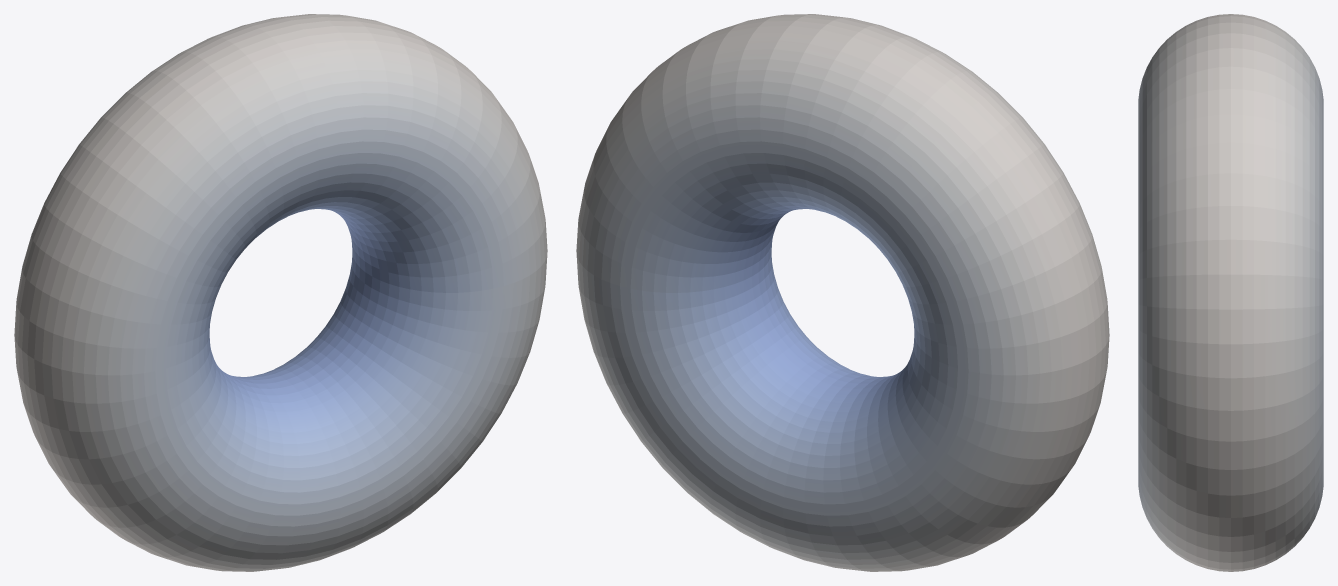
3 views of the same model, side by side, from view 1: azimuth 30°, elevation 25°; view 2: azimuth 150°, elevation 25°; view 3: azimuth 270°, elevation 25° (orthographic). The views are drawn at different scales.
Visible parts, largest first — view 1: world; view 2: world; view 3: world.
Part boxes in pixels (bbox=[...]): world: bbox=[14, 14, 547, 571]; world: bbox=[576, 14, 1109, 571]; world: bbox=[1138, 14, 1323, 571].
Size of the model in its own units: 22 by 21.96 by 7.32.
